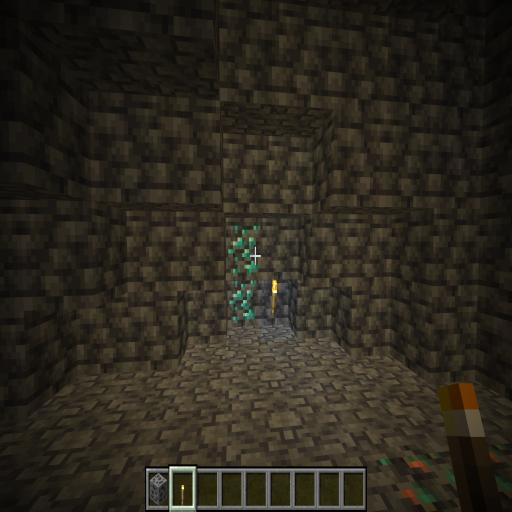diamond ore: (224, 218, 264, 334)
